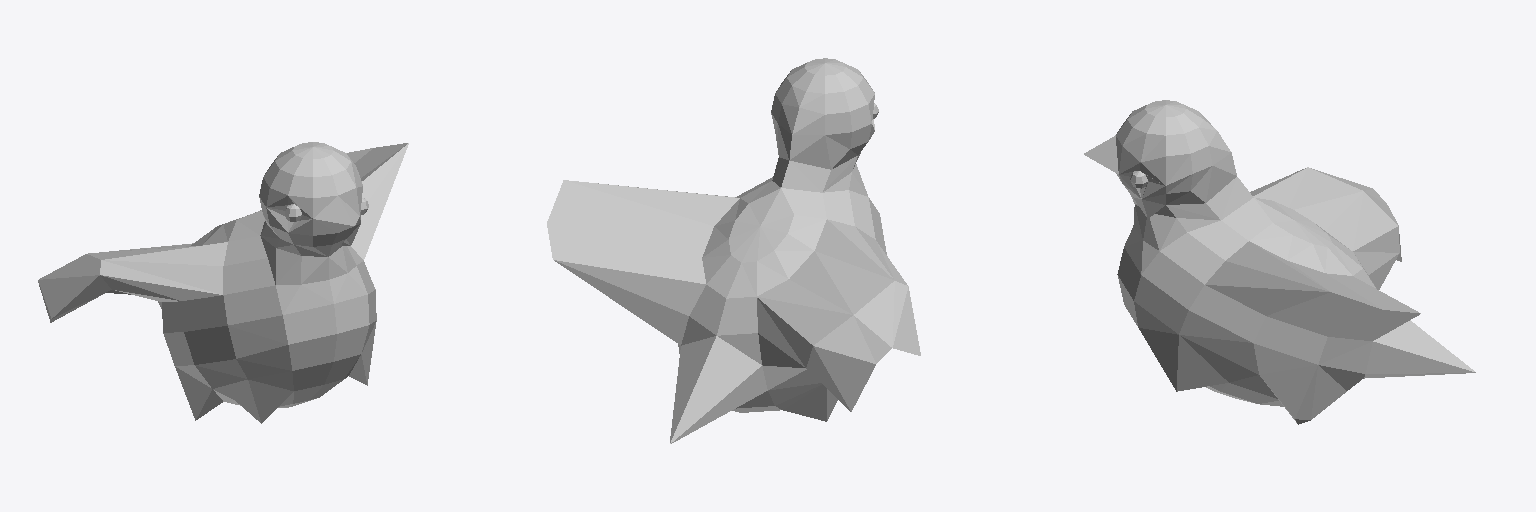
Rendered from MeltingWarblerDisplayMesh.obj.
The picture shows the model from 3 angles: view 1: azimuth 30°, elevation 25°; view 2: azimuth 150°, elevation 25°; view 3: azimuth 270°, elevation 25°; orthographic projection.
Parts seen in each view (by area): view 1: MeltingWarblerDisplayMesh; view 2: MeltingWarblerDisplayMesh; view 3: MeltingWarblerDisplayMesh.
Boxes of the visible parts, <box> form: MeltingWarblerDisplayMesh: <box>38,142,408,423</box>; MeltingWarblerDisplayMesh: <box>547,58,920,443</box>; MeltingWarblerDisplayMesh: <box>1084,100,1475,424</box>.
Bounding box in the file's own units: 2.1 × 1.69 × 2.